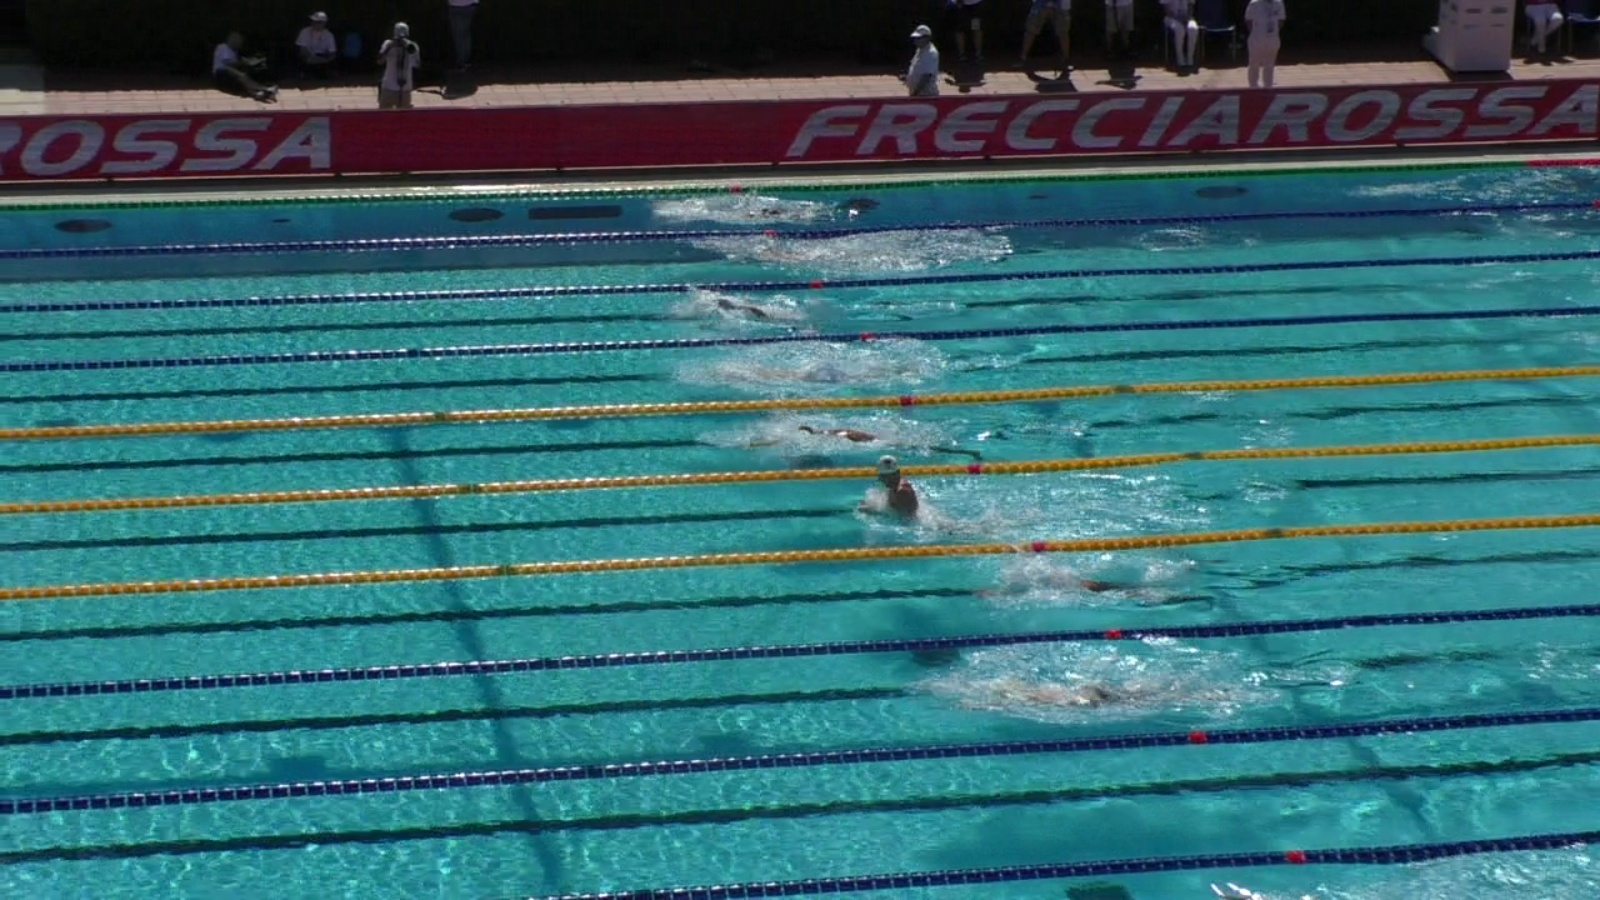swimmerwdd: (857, 460, 1022, 531), (978, 671, 1191, 716), (984, 573, 1149, 604), (737, 236, 874, 271), (687, 195, 838, 224), (738, 423, 897, 449), (714, 364, 901, 384), (709, 292, 805, 327)
